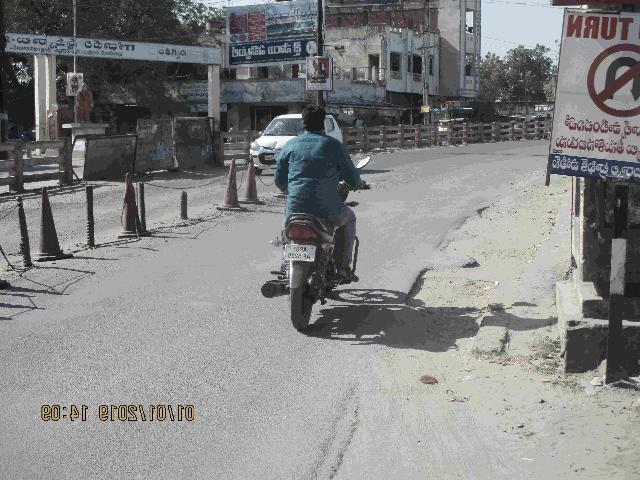motor: (263, 213, 337, 332)
non-helm: (303, 106, 326, 132)
